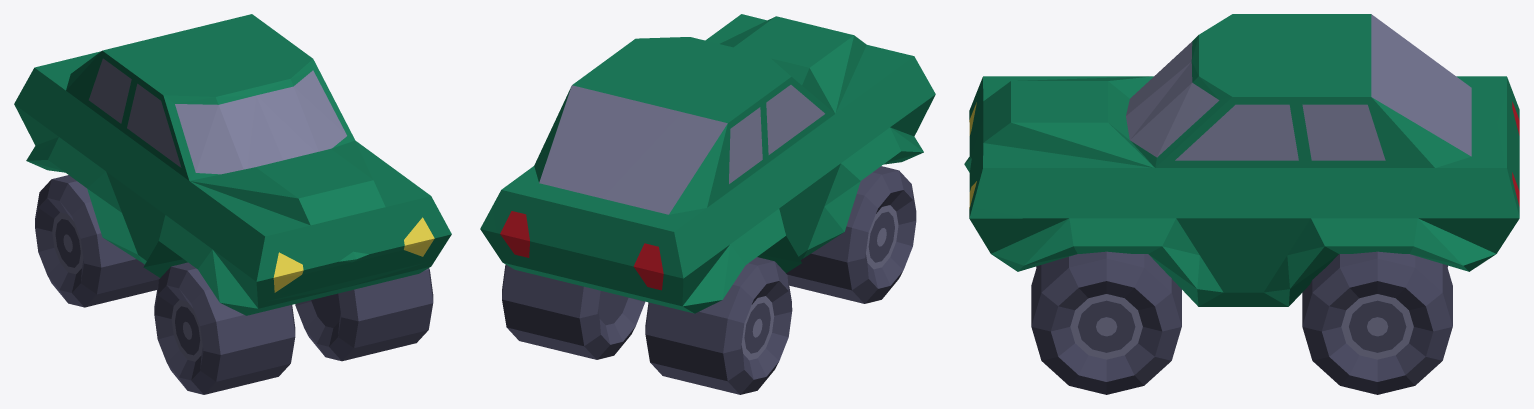
File: Car_Green.fbx
3 renders of one model, left to right at view 1: azimuth 30°, elevation 25°; view 2: azimuth 150°, elevation 25°; view 3: azimuth 270°, elevation 25°, orthographic. The views are drawn at different scales.
Visible parts, largest first — view 1: Car_Green; view 2: Car_Green; view 3: Car_Green.
Part boxes in pixels (box(x1,y1,x2,y2)): Car_Green: box(14, 14, 451, 394); Car_Green: box(480, 14, 935, 394); Car_Green: box(964, 14, 1519, 394).
Bounding box in the file's own units: 108 × 111 × 199.
